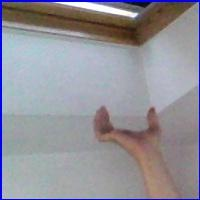space: (89, 102, 169, 154)
